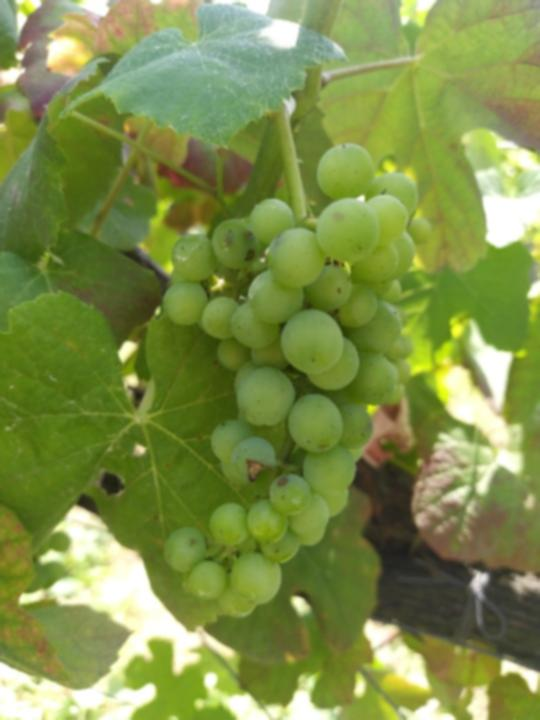grape: (162, 139, 436, 622)
